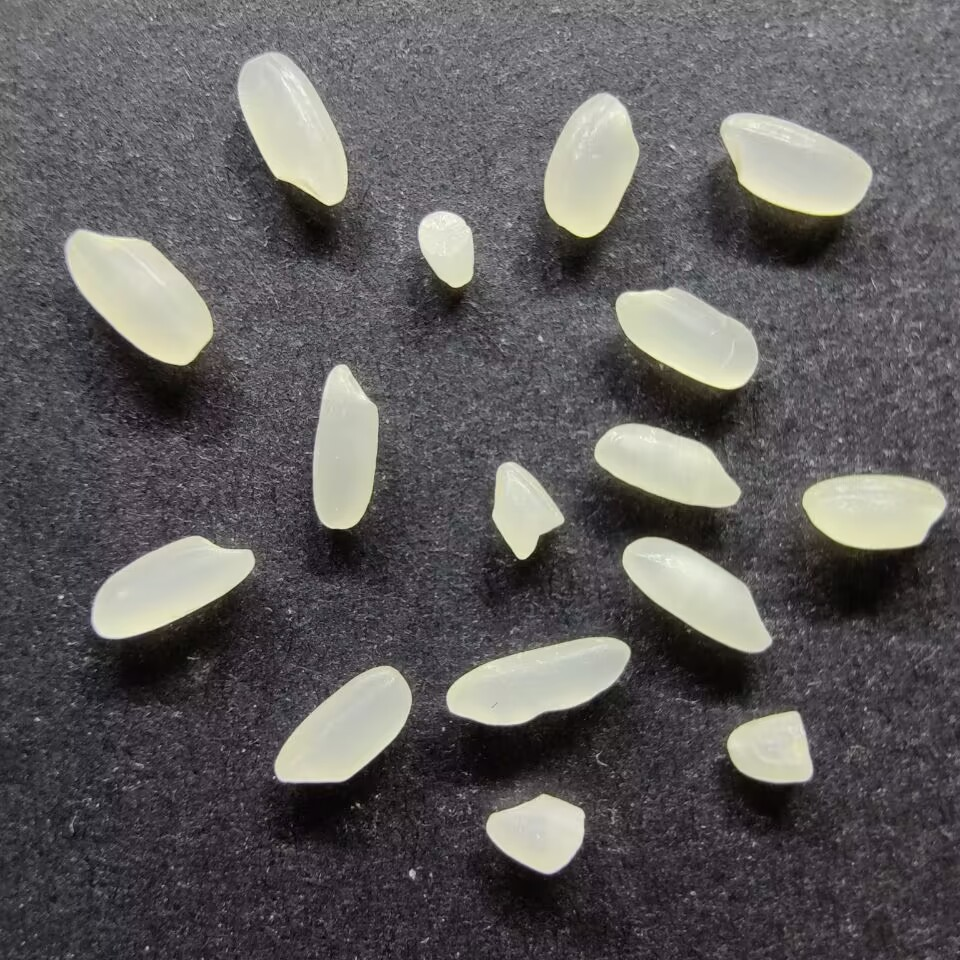broken: (483, 793, 586, 876), (487, 460, 566, 562), (722, 708, 814, 784), (414, 210, 479, 290)
rice: (59, 226, 217, 366), (620, 535, 775, 655), (88, 532, 255, 640), (235, 50, 349, 207), (444, 633, 632, 727), (271, 665, 415, 785), (718, 109, 875, 217), (615, 286, 761, 393), (541, 89, 640, 240), (592, 422, 741, 510), (310, 362, 380, 530), (800, 473, 947, 550)
